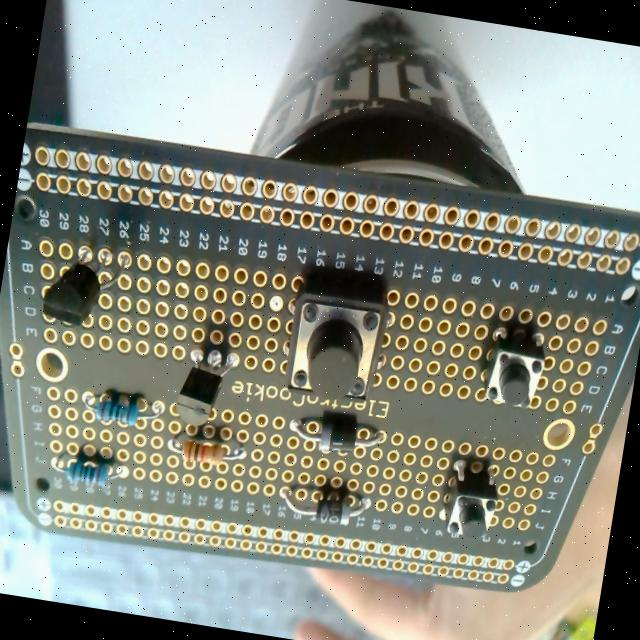diode: (270, 476, 378, 540), (280, 409, 393, 466)
resistor: (43, 447, 138, 500), (157, 431, 257, 477), (76, 386, 166, 436)
switch: (278, 268, 400, 416), (476, 324, 554, 418), (433, 452, 507, 548)
transistor: (35, 234, 142, 340), (164, 342, 246, 438)
